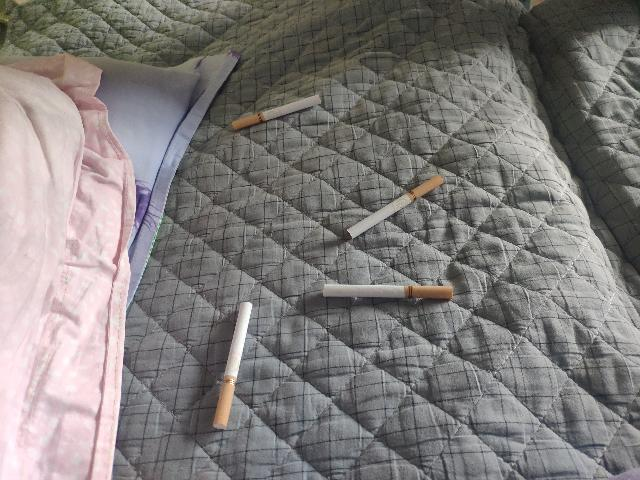Cigarette: (348, 175, 444, 239), (214, 302, 252, 430), (232, 94, 322, 130), (323, 285, 453, 299)
